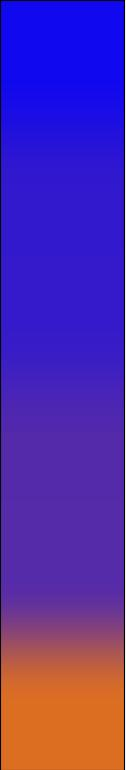Thermal Runaway: (7, 681, 120, 765)
critical: (6, 584, 119, 674)
safe: (6, 8, 120, 384), (6, 391, 121, 576)
